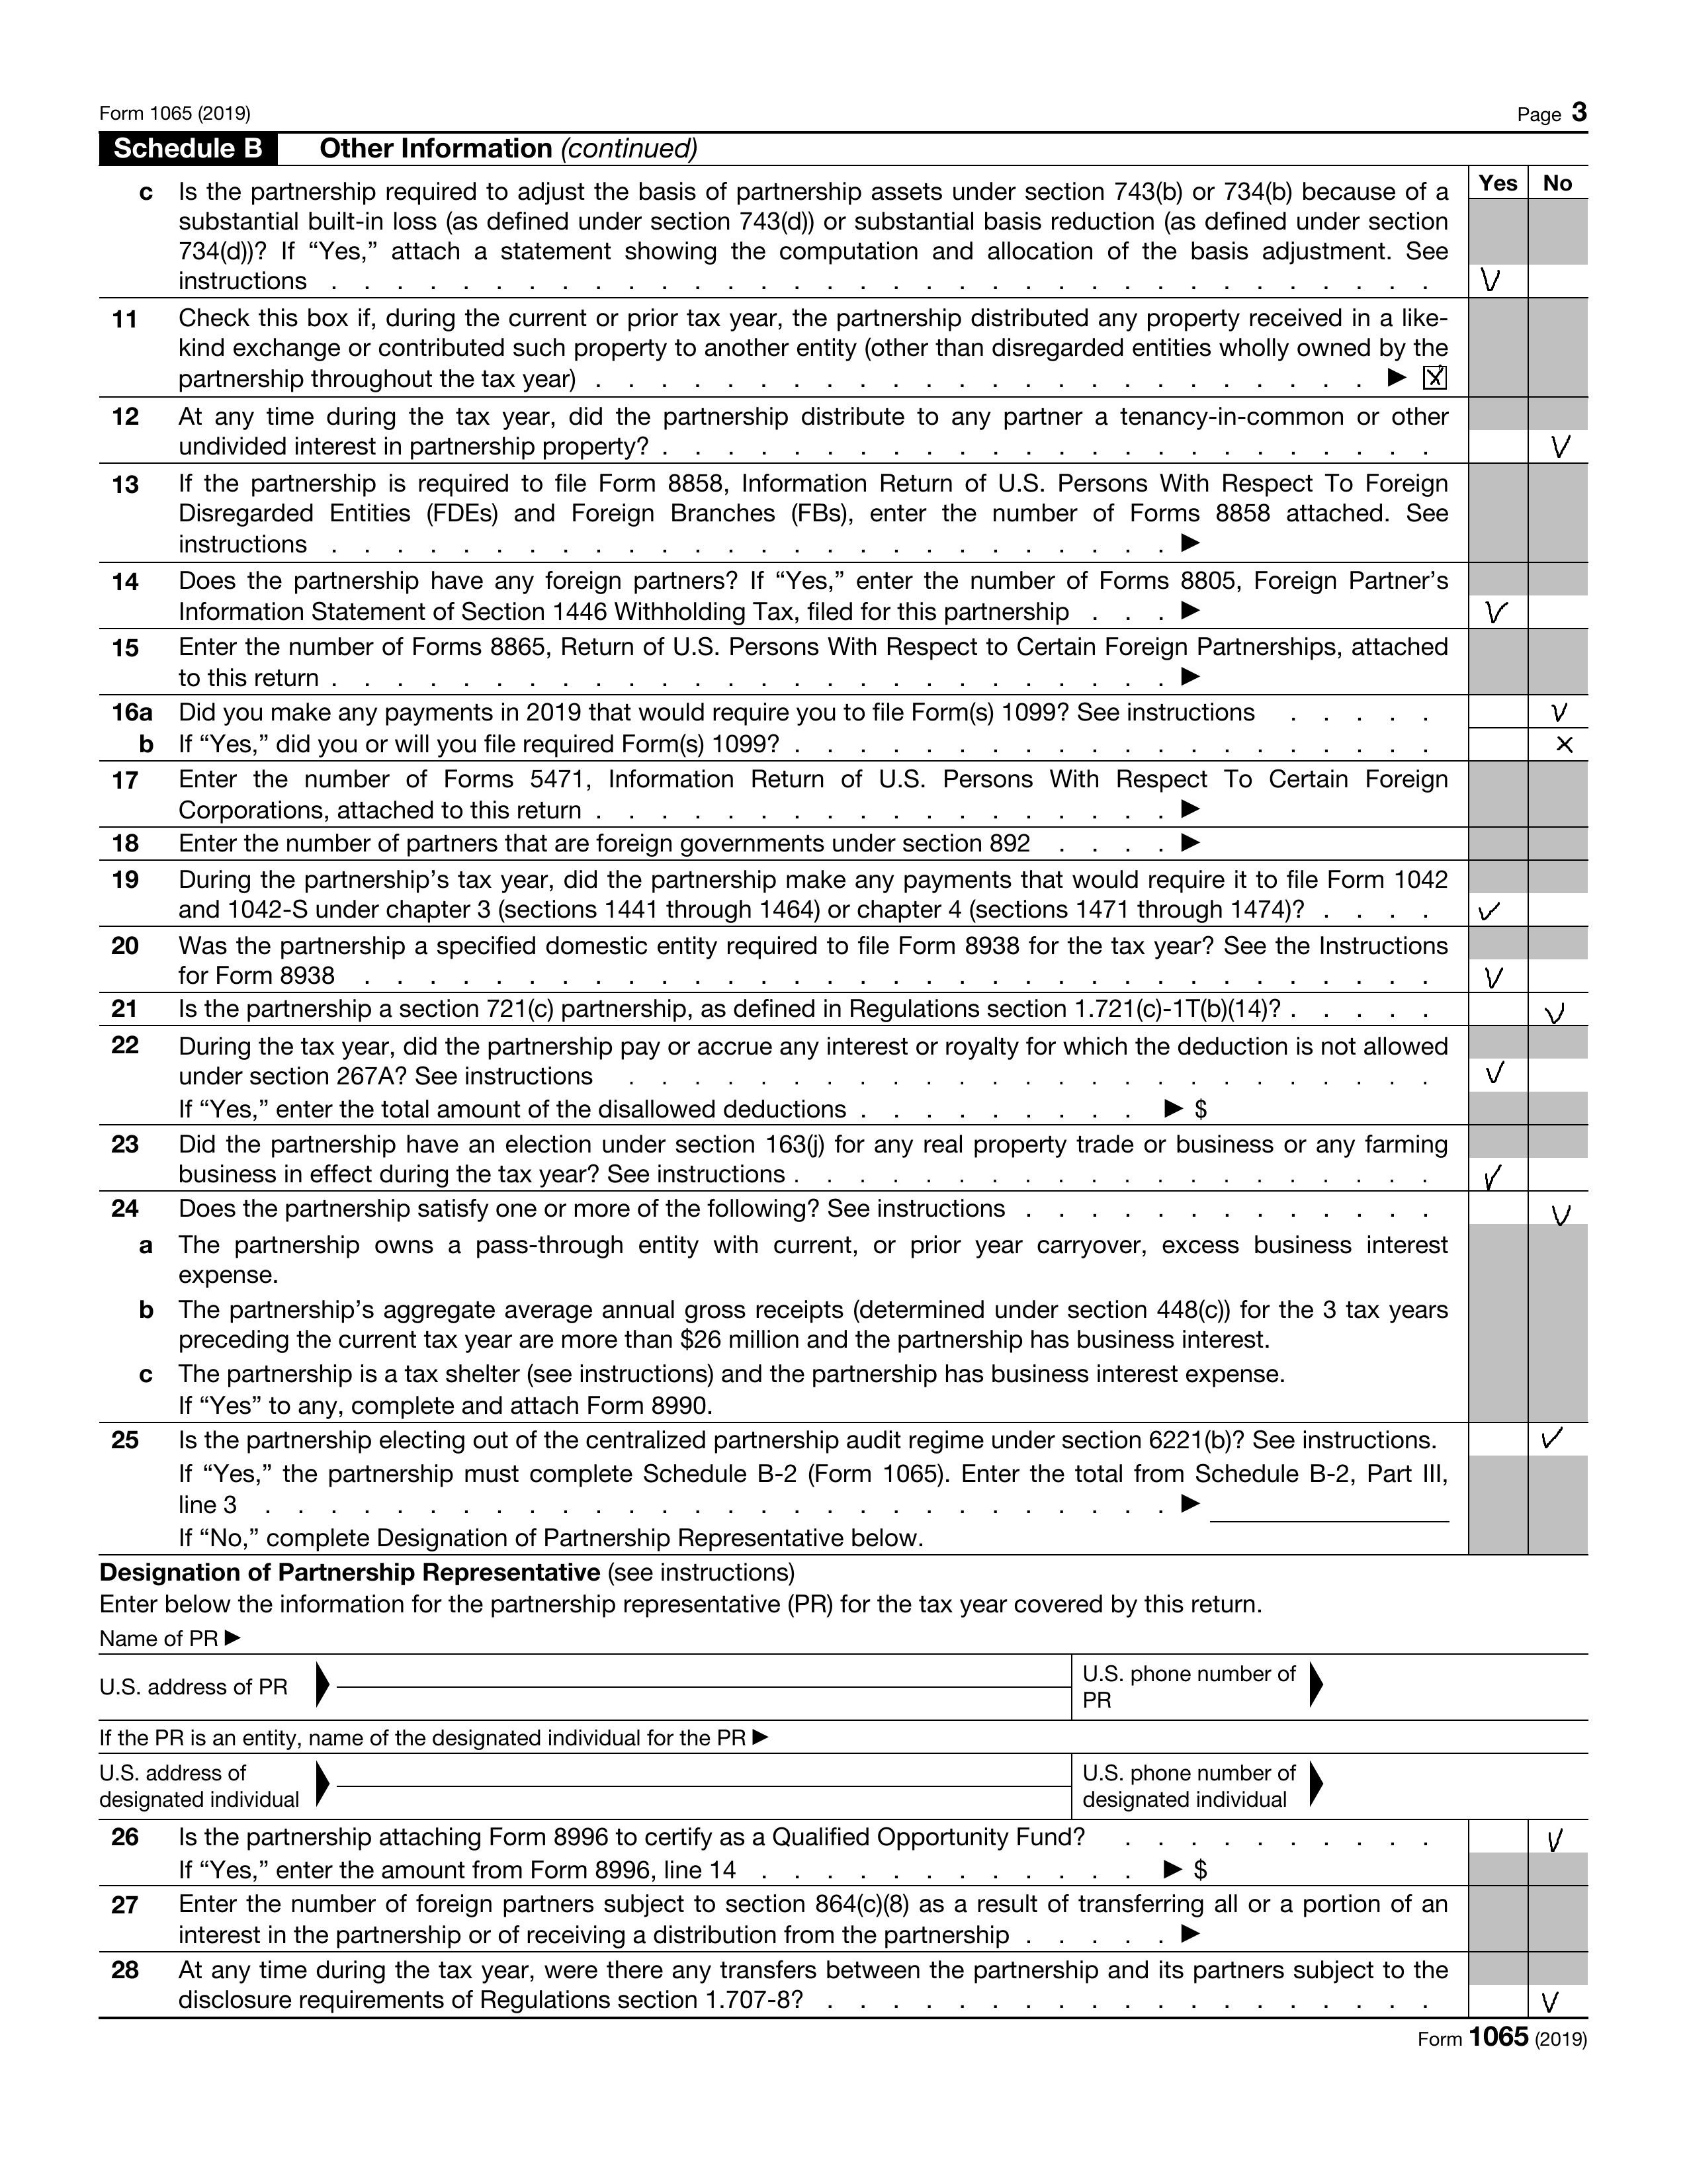checkmark: (1538, 997, 1568, 1026), (1536, 1426, 1566, 1452), (1481, 597, 1510, 623), (1478, 1164, 1504, 1190), (1545, 1201, 1574, 1226), (1481, 962, 1506, 988), (1549, 430, 1572, 459), (1474, 898, 1503, 921), (1552, 733, 1577, 756), (1483, 1059, 1506, 1084), (1480, 266, 1501, 290), (1543, 1826, 1565, 1851), (1538, 1989, 1559, 2014), (1549, 700, 1568, 723)
filled checkbox: (1418, 361, 1450, 391)
